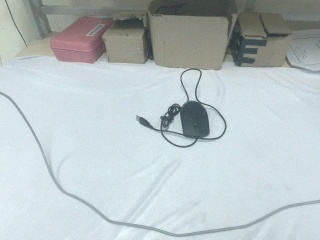box: (147, 1, 240, 71), (228, 10, 293, 70), (48, 13, 112, 66), (102, 12, 153, 66)
mouse: (179, 100, 211, 140)
